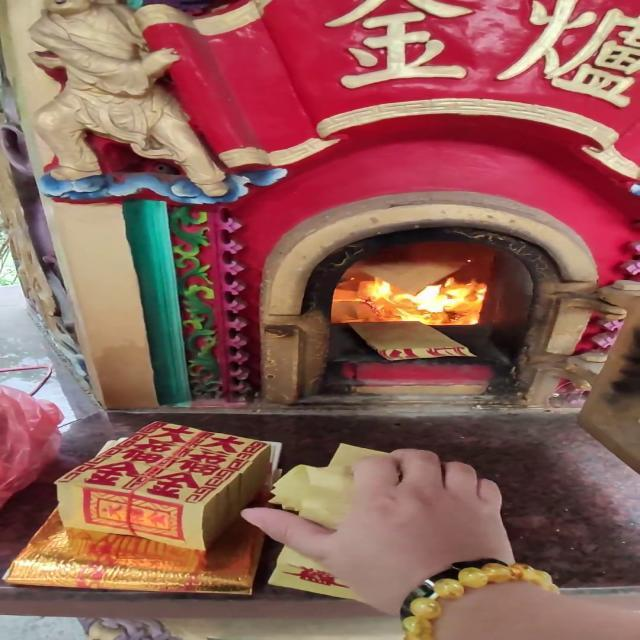Fire: (356, 272, 492, 322)
